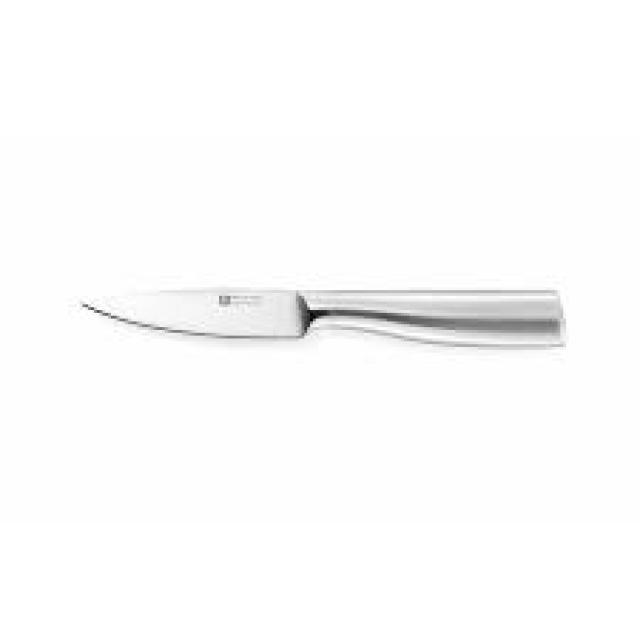knife: (77, 283, 584, 364)
